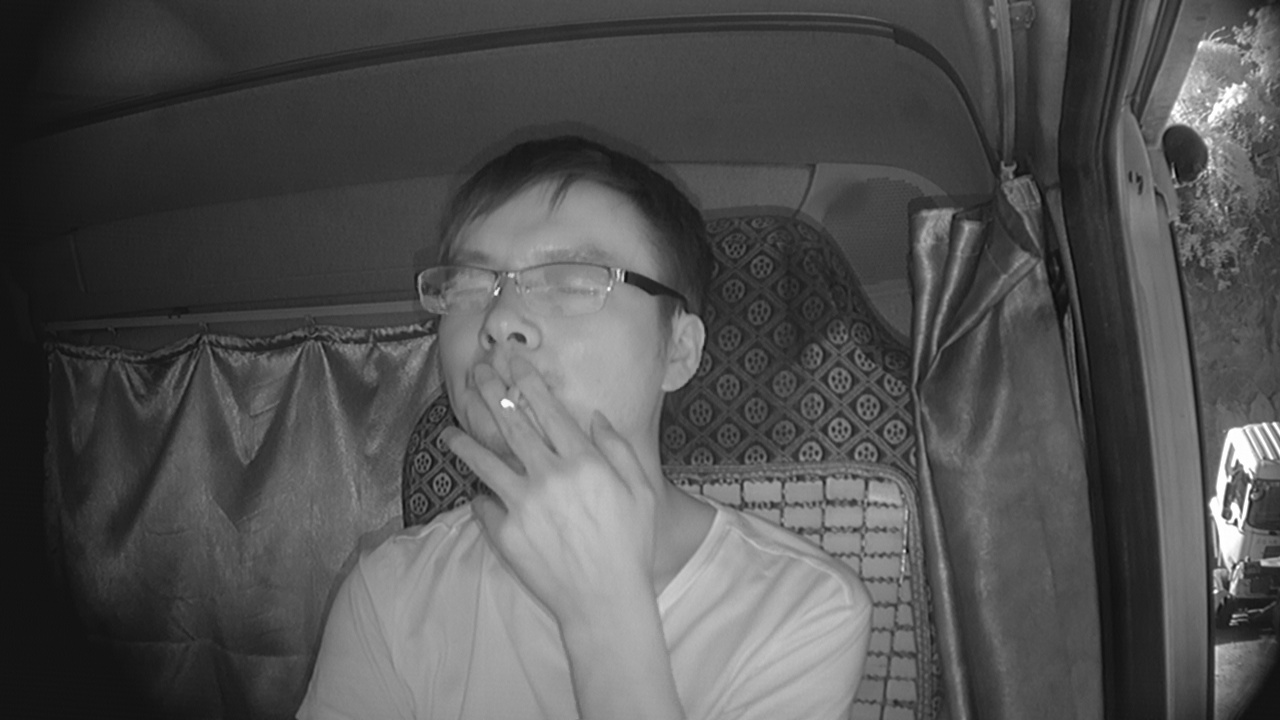hand: (454, 357, 651, 598)
